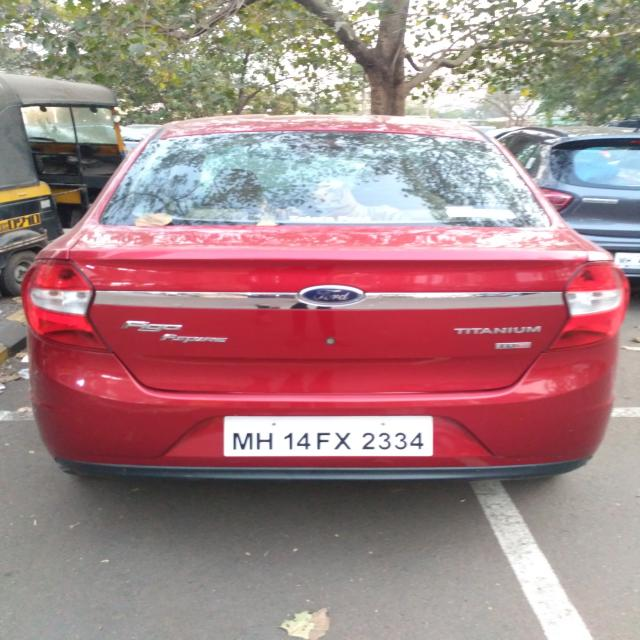Number-Plate: (222, 416, 436, 456)
